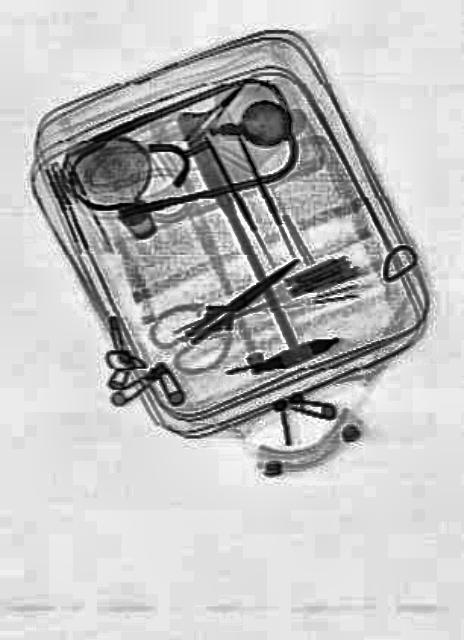Knife: (178, 240, 304, 356)
